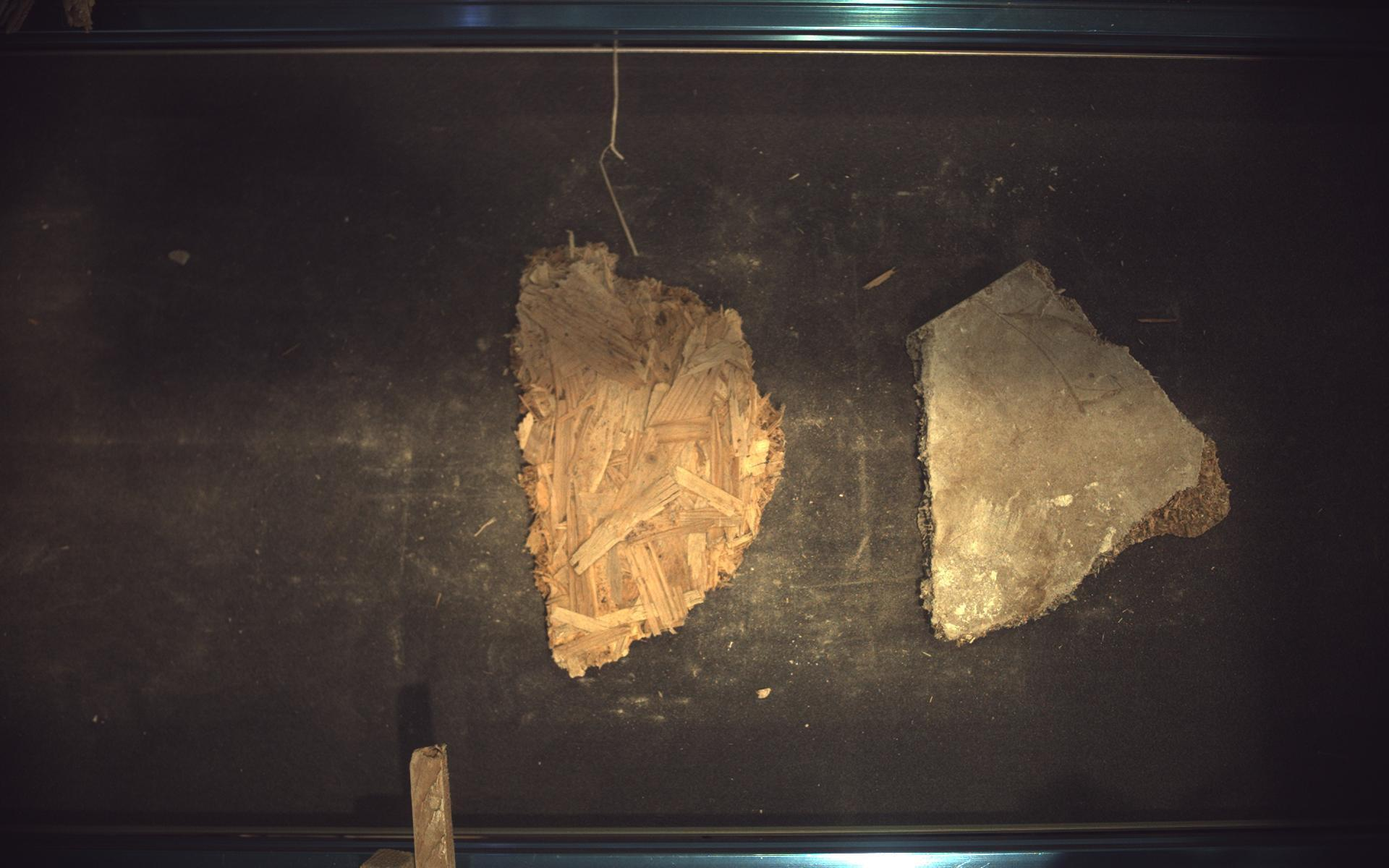wood: (909, 261, 1232, 643), (512, 239, 786, 678), (409, 746, 456, 868), (360, 851, 415, 868)
